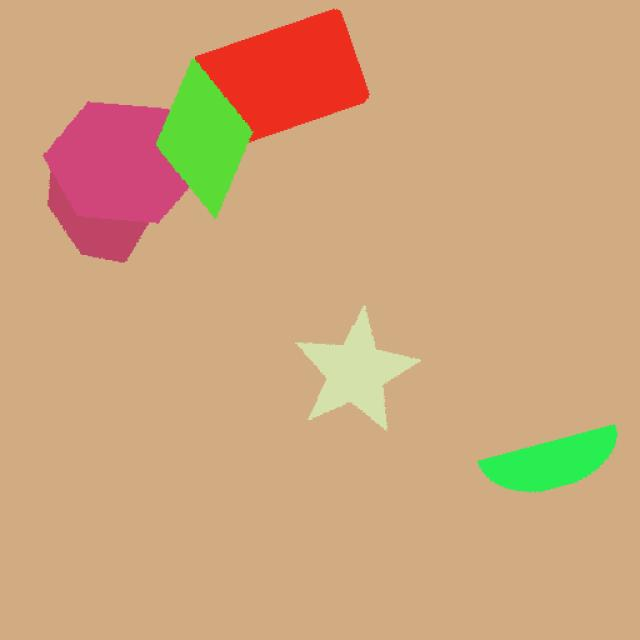Hexagon: (32, 96, 201, 228)
Kite: (152, 50, 262, 226)
Pentagon: (43, 138, 165, 279)
Rectangle: (183, 3, 393, 144)
Star: (292, 275, 450, 465), (458, 419, 634, 500)
